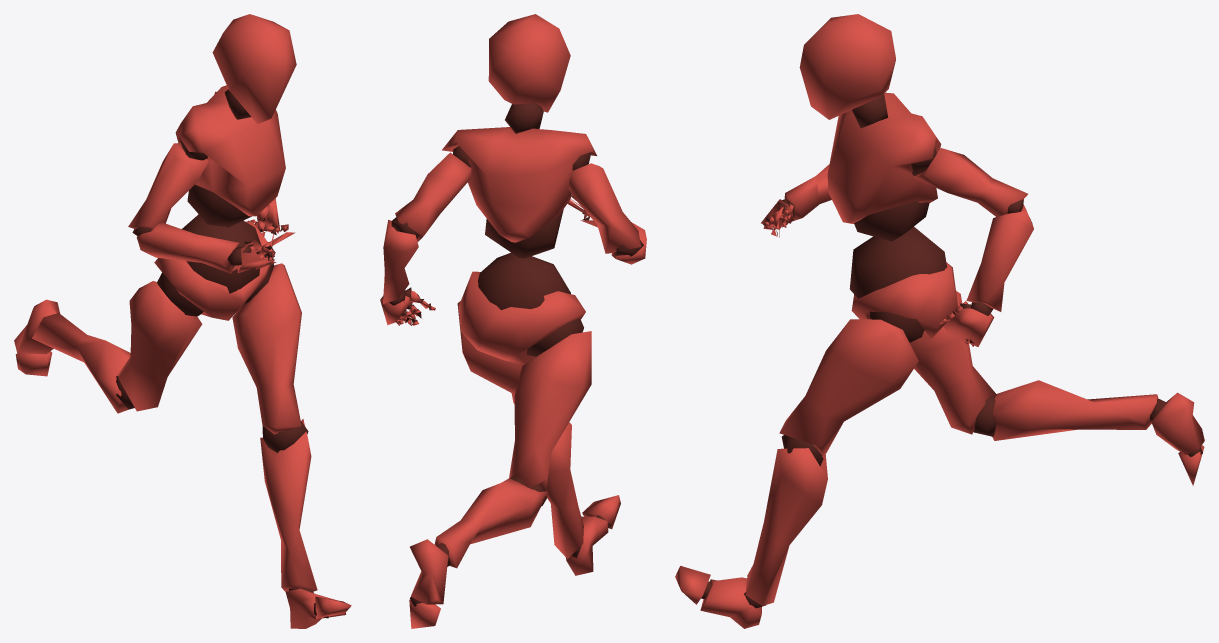
3 renders of one model, left to right at view 1: azimuth 30°, elevation 25°; view 2: azimuth 150°, elevation 25°; view 3: azimuth 270°, elevation 25°, orthographic. The views are drawn at different scales.
Parts seen in each view (by area): view 1: Beta_Surface.001; view 2: Beta_Surface.001; view 3: Beta_Surface.001.
Boxes of the visible parts, x1,y1,x2,y2 form: Beta_Surface.001: [14, 14, 351, 628]; Beta_Surface.001: [380, 14, 646, 628]; Beta_Surface.001: [675, 14, 1204, 628].
Size of the model in its own units: 5.27 by 14.66 by 11.52.
